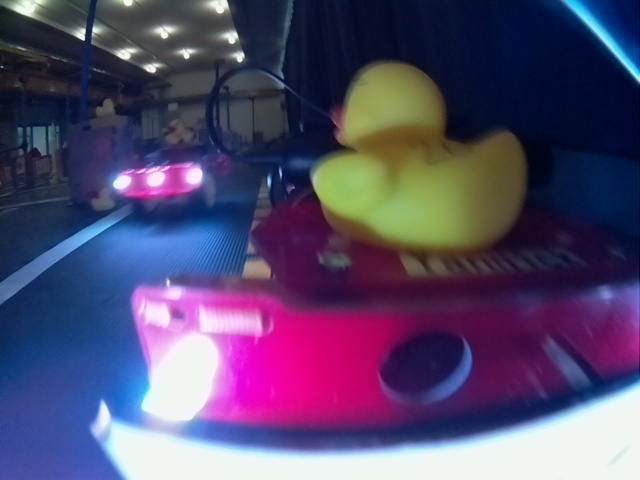Duckie: (314, 63, 527, 240), (165, 121, 194, 144), (96, 99, 113, 114)
Duckiebot: (129, 145, 225, 210)
